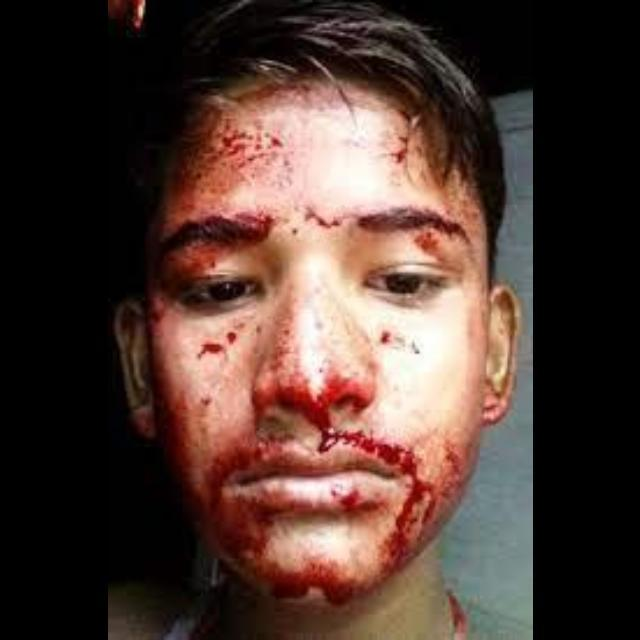blood: (207, 370, 475, 602), (181, 112, 290, 193), (306, 208, 340, 227), (414, 233, 437, 255), (200, 344, 226, 357), (226, 333, 235, 343)
